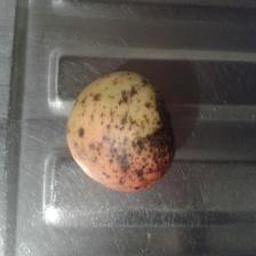Mango Rotten: (47, 63, 199, 202)
